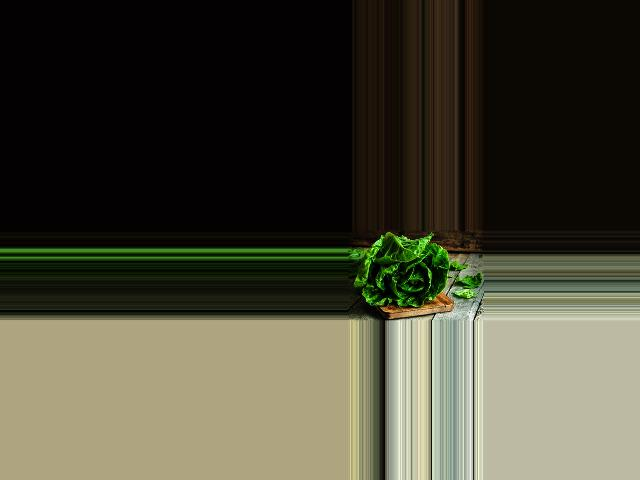lettuce: (352, 234, 445, 311)
